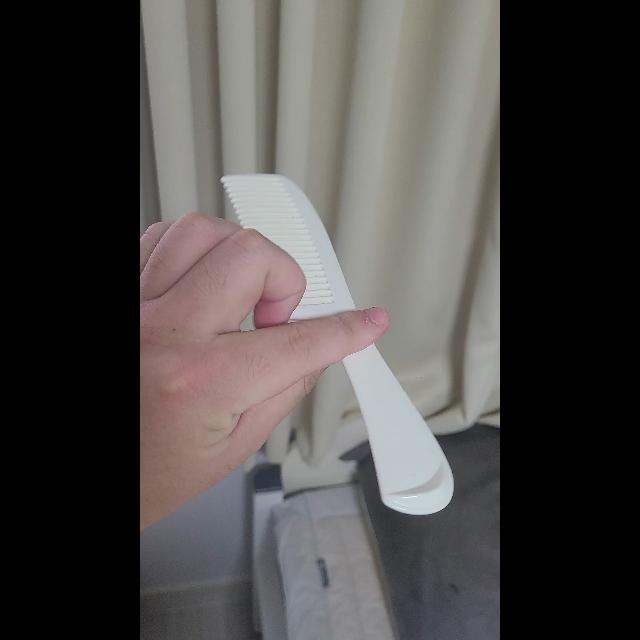COMB: (221, 173, 454, 514)
